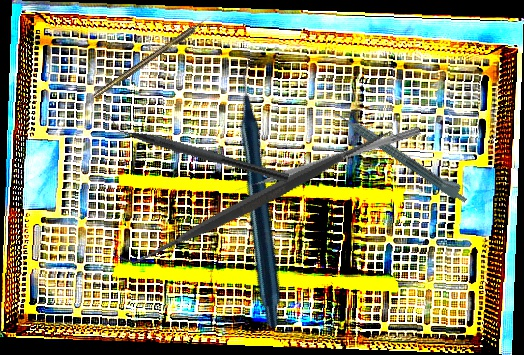Chopper: (102, 111, 293, 183)
Handpiece: (139, 57, 387, 330), (332, 103, 473, 206)
Hook Surgical: (91, 14, 214, 100)
Pusher: (233, 124, 421, 195)
Spatula Surgical: (116, 53, 404, 343)
